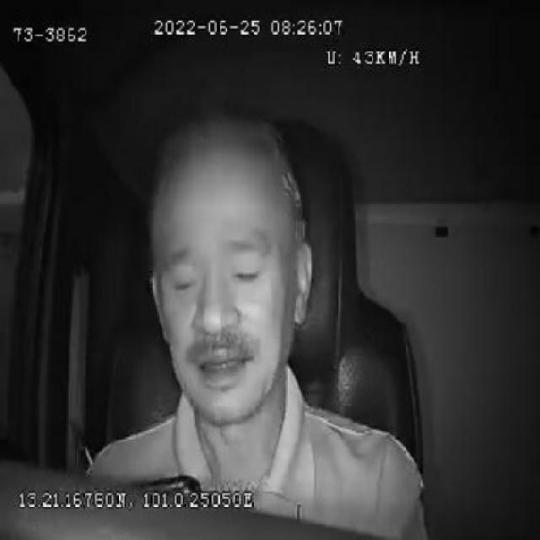phone: (112, 476, 202, 496)
